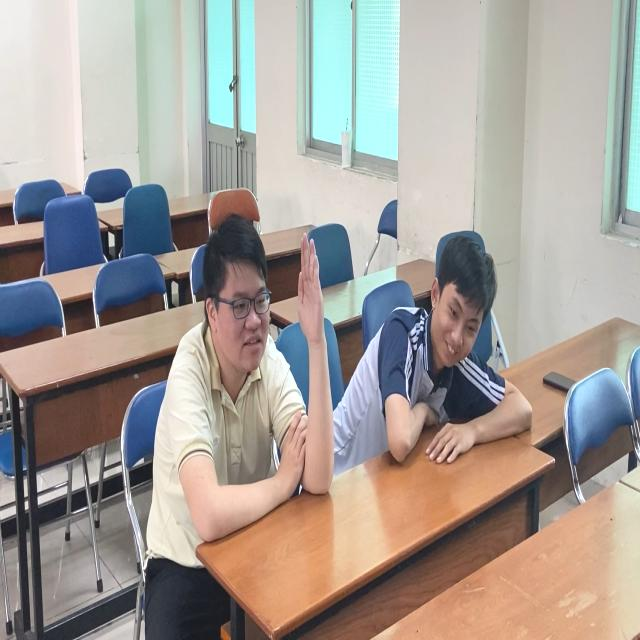raise_hand: (142, 207, 331, 571)
